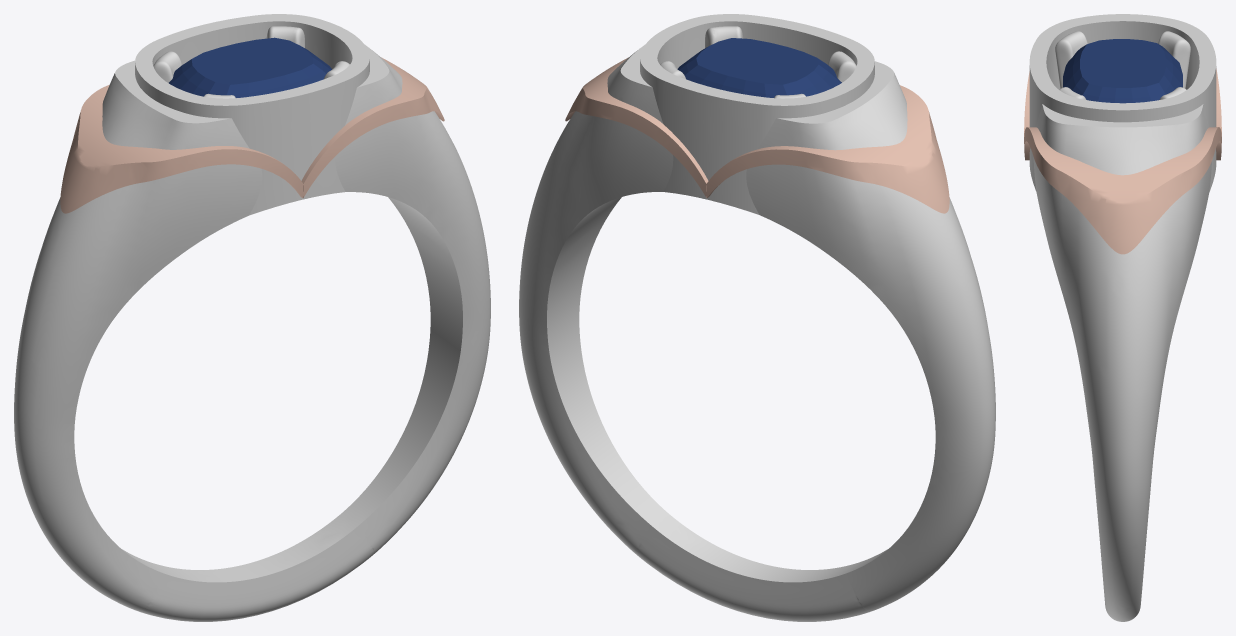
The model's file is JulianPTrg_blender.glb.
3 views of the same model, side by side, from view 1: azimuth 30°, elevation 25°; view 2: azimuth 150°, elevation 25°; view 3: azimuth 270°, elevation 25° (orthographic). The views are drawn at different scales.
Parts seen in each view (by area): view 1: Julian PT for 3d model, Julian RG for 3d model, Julian tanzanite for 3d model; view 2: Julian PT for 3d model, Julian RG for 3d model, Julian tanzanite for 3d model; view 3: Julian PT for 3d model, Julian RG for 3d model, Julian tanzanite for 3d model.
Boxes of the visible parts, <box> form: Julian PT for 3d model: <box>14,14,490,621</box>; Julian RG for 3d model: <box>60,57,444,213</box>; Julian tanzanite for 3d model: <box>169,37,331,97</box>; Julian PT for 3d model: <box>519,14,995,621</box>; Julian RG for 3d model: <box>565,57,949,213</box>; Julian tanzanite for 3d model: <box>677,38,841,97</box>; Julian PT for 3d model: <box>1029,14,1216,621</box>; Julian RG for 3d model: <box>1024,68,1221,254</box>; Julian tanzanite for 3d model: <box>1063,39,1182,103</box>.
Bounding box in the file's own units: 25.04 × 28.16 × 9.43.
